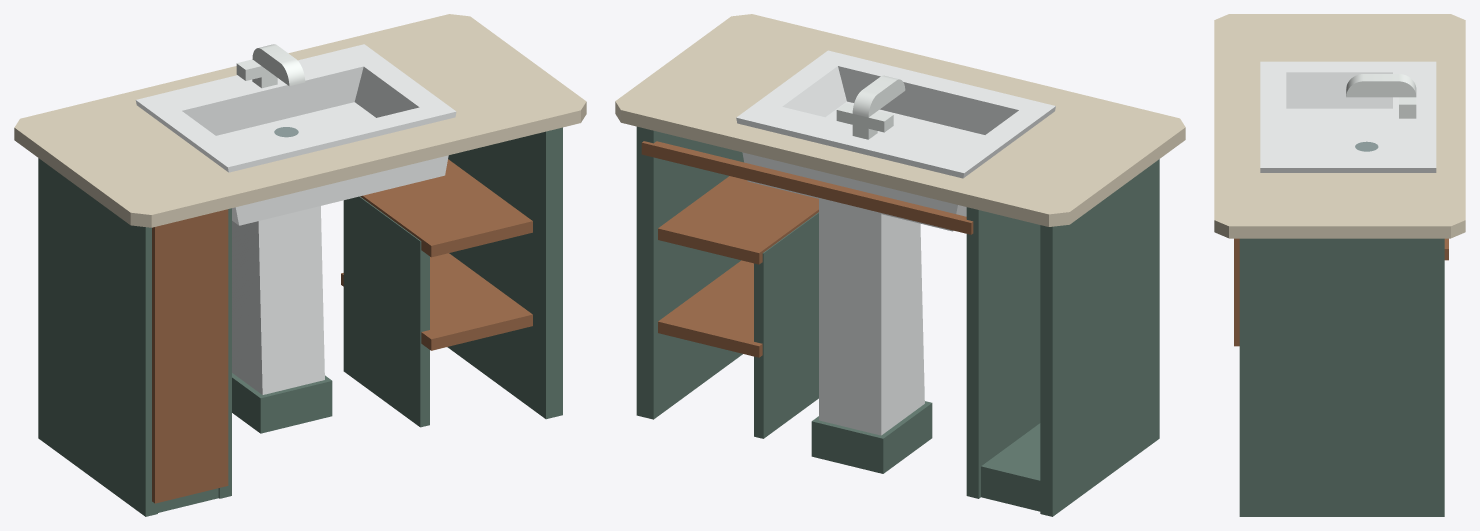
3 renders of one model, left to right at view 1: azimuth 30°, elevation 25°; view 2: azimuth 150°, elevation 25°; view 3: azimuth 270°, elevation 25°, orthographic. The views are drawn at different scales.
Visible parts, largest first — view 1: wash-countertop, basin-bowl, left-cupboard-wall, tall-cupboard-front, right-shelf-end, inner-shelf-upright, shelf-middle, shelf-low, pedestal-foot, basin-faucet, central-cupboard-wall, cupboard-base; view 2: basin-bowl, wash-countertop, left-cupboard-wall, central-cupboard-wall, right-shelf-end, inner-shelf-upright, shelf-middle, rear-towel-rail, shelf-low, pedestal-foot, cupboard-base, basin-faucet; view 3: right-shelf-end, wash-countertop, basin-bowl, basin-faucet, tall-cupboard-front.
Part boxes in pixels (left/top/right/bottom): wash-countertop: left=14, top=14, right=586, bottom=227; basin-bowl: left=135, top=44, right=456, bottom=394; left-cupboard-wall: left=38, top=158, right=157, bottom=516; tall-cupboard-front: left=152, top=209, right=228, bottom=503; right-shelf-end: left=447, top=127, right=562, bottom=419; inner-shelf-upright: left=343, top=196, right=429, bottom=427; shelf-middle: left=360, top=159, right=532, bottom=257; shelf-low: left=341, top=253, right=532, bottom=350; pedestal-foot: left=232, top=373, right=332, bottom=433; basin-faucet: left=236, top=44, right=305, bottom=88; central-cupboard-wall: left=218, top=208, right=231, bottom=498; cupboard-base: left=158, top=488, right=218, bottom=512; basin-bowl: left=736, top=50, right=1055, bottom=435; wash-countertop: left=615, top=14, right=1185, bottom=226; left-cupboard-wall: left=1040, top=159, right=1159, bottom=516; central-cupboard-wall: left=966, top=207, right=1040, bottom=498; right-shelf-end: left=636, top=126, right=743, bottom=419; inner-shelf-upright: left=754, top=212, right=818, bottom=438; shelf-middle: left=658, top=176, right=818, bottom=264; rear-towel-rail: left=641, top=141, right=973, bottom=234; shelf-low: left=658, top=260, right=762, bottom=357; pedestal-foot: left=811, top=401, right=932, bottom=473; cupboard-base: left=981, top=423, right=1040, bottom=511; basin-faucet: left=836, top=75, right=905, bottom=139; right-shelf-end: left=1239, top=238, right=1444, bottom=516; wash-countertop: left=1214, top=14, right=1465, bottom=238; basin-bowl: left=1260, top=61, right=1436, bottom=172; basin-faucet: left=1346, top=74, right=1416, bottom=118; tall-cupboard-front: left=1234, top=238, right=1239, bottom=346.
Size of the model in its own units: 1.2 by 0.9 by 0.6.
